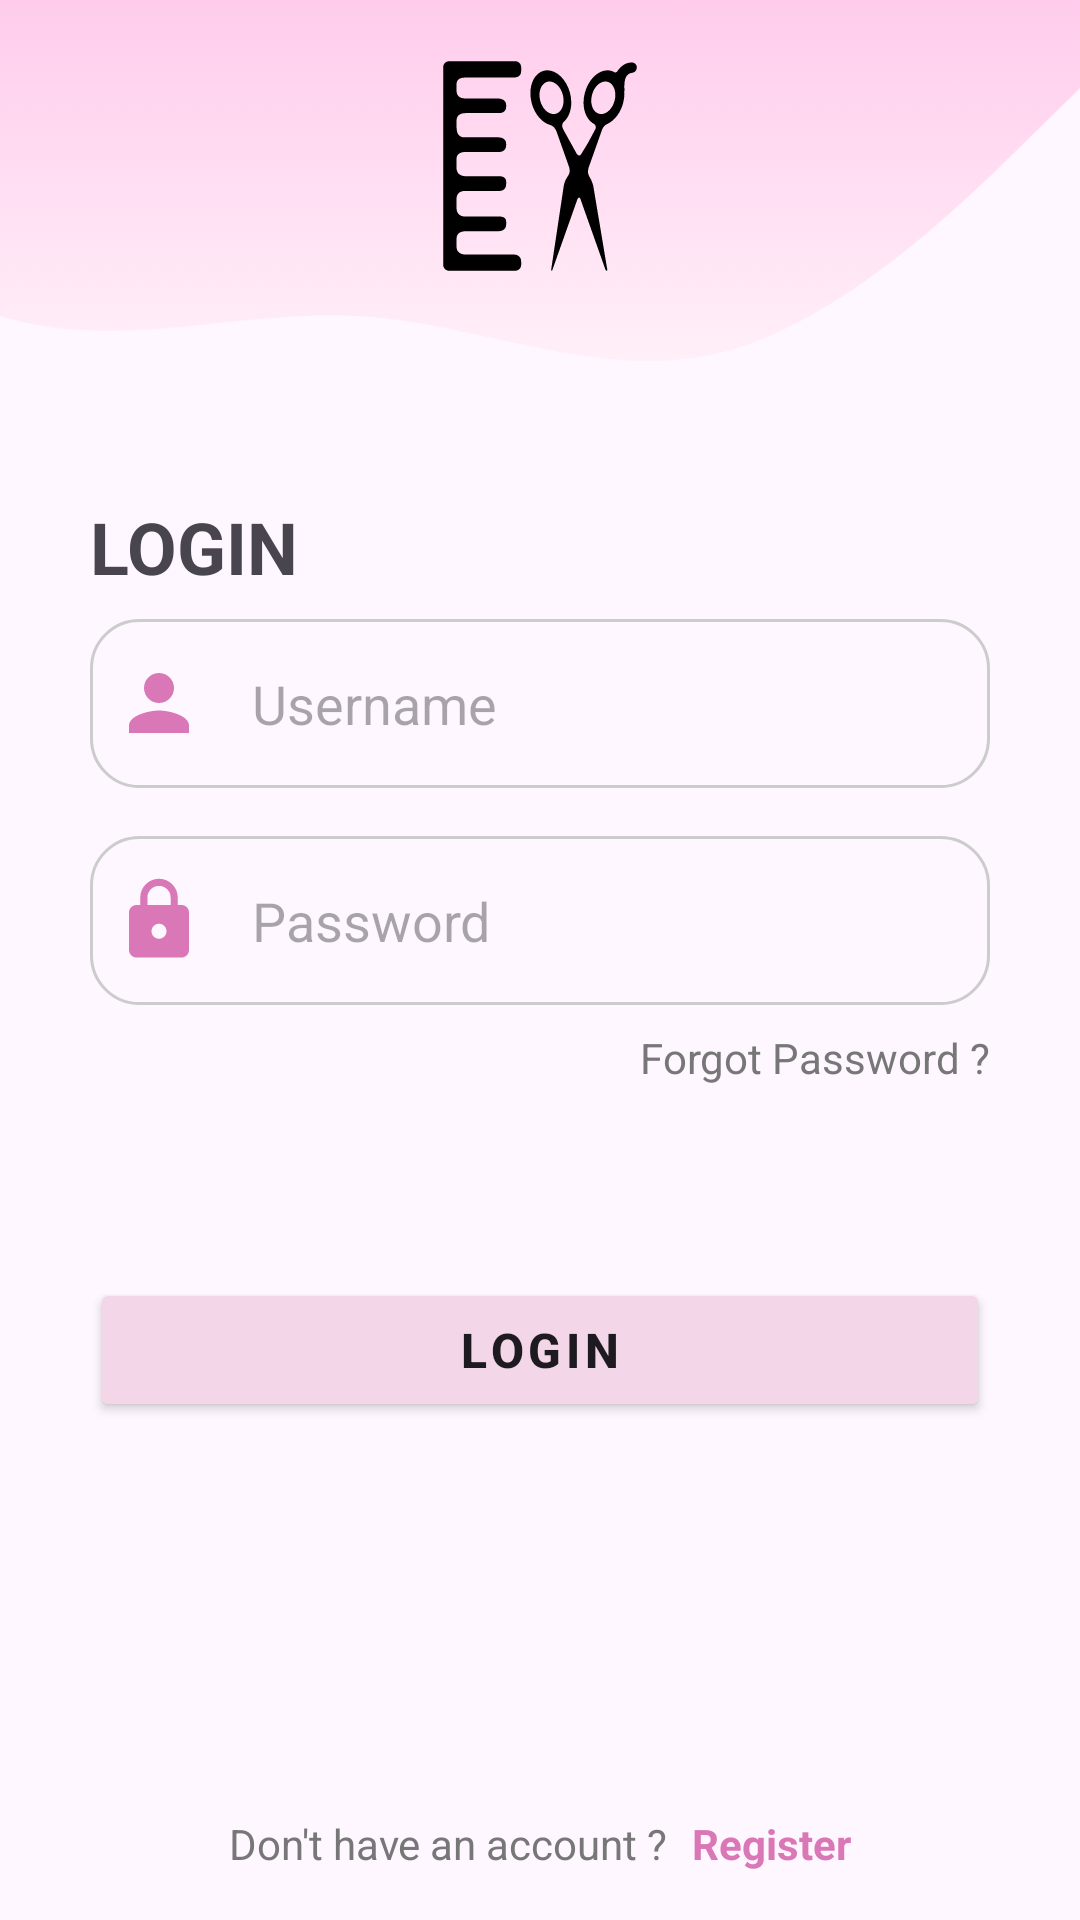

Named icons in this screenshot (1080 x 1920) and their centers, [x,y]:
hair: [540,166]
lock: [159,918]
person: [159,703]
